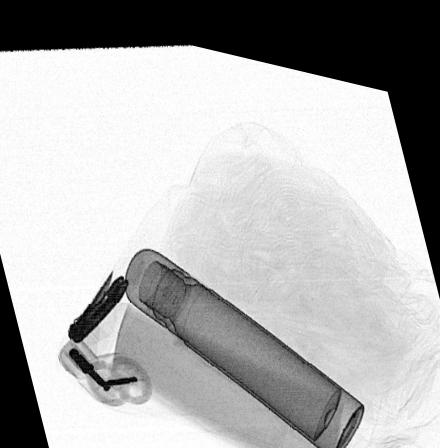Knife: (66, 261, 131, 342)
